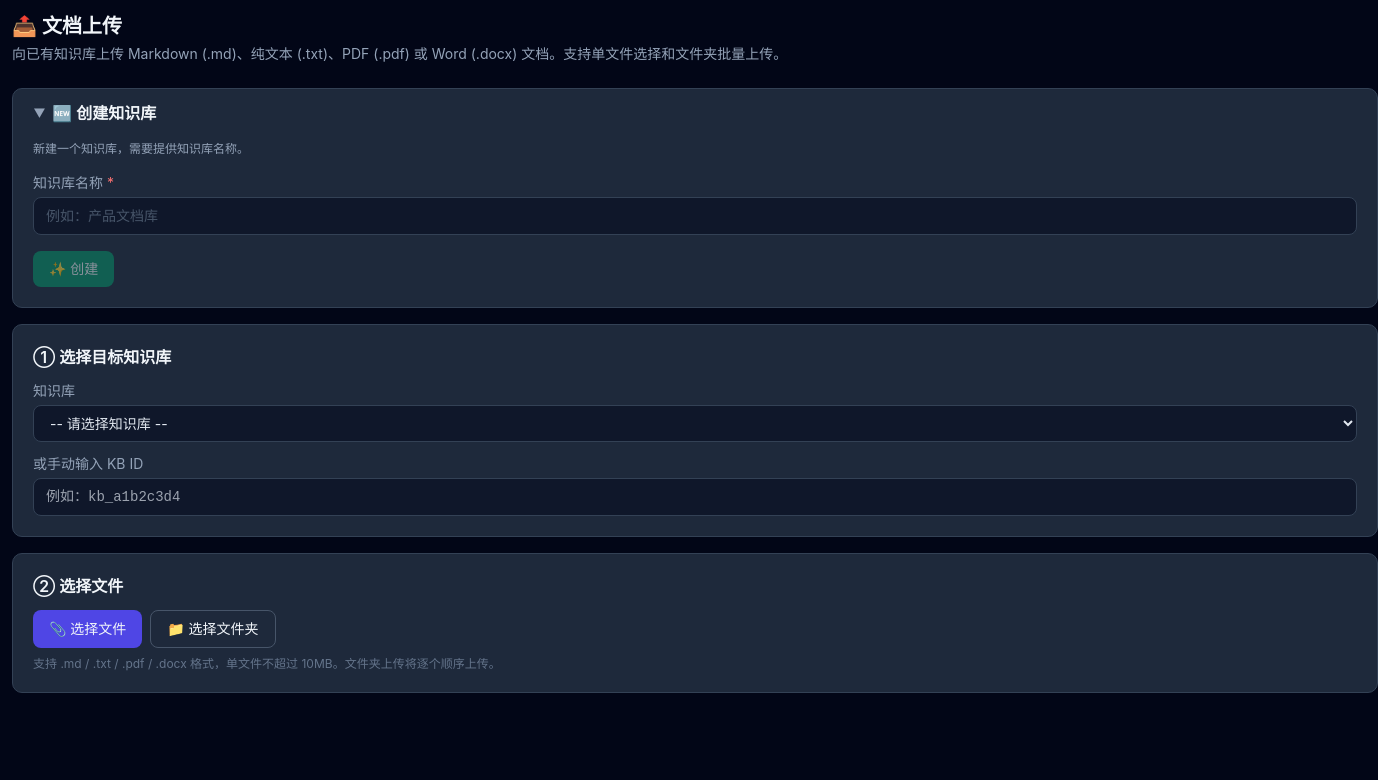
it: UploadDocPage › 创建知识库 Card › 填写表单后创建按钮应启用
Type "我的库" into the field with placeholder "例如：产品文档库" at (695, 216), box [33,197,1357,235]
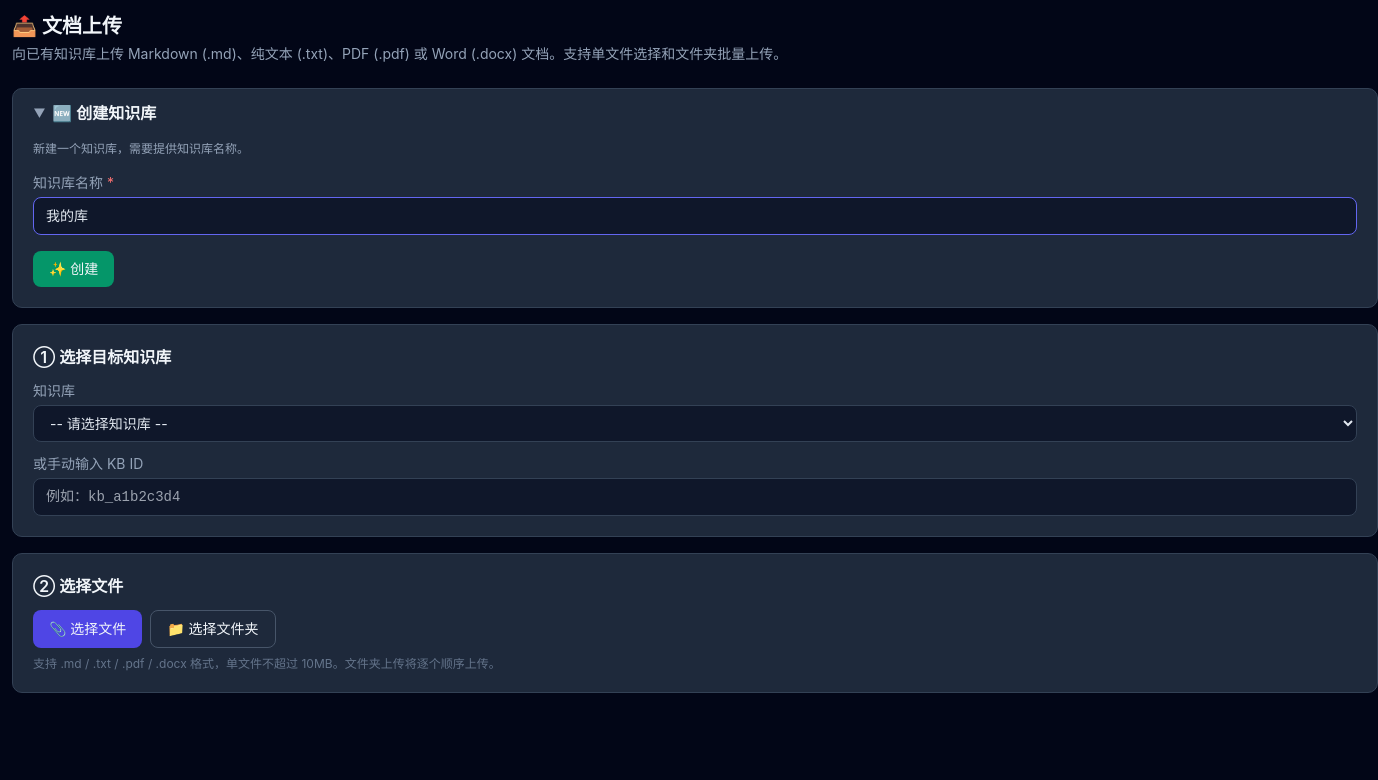
Check: the button "✨ 创建" is enabled, box [33,251,114,287]
